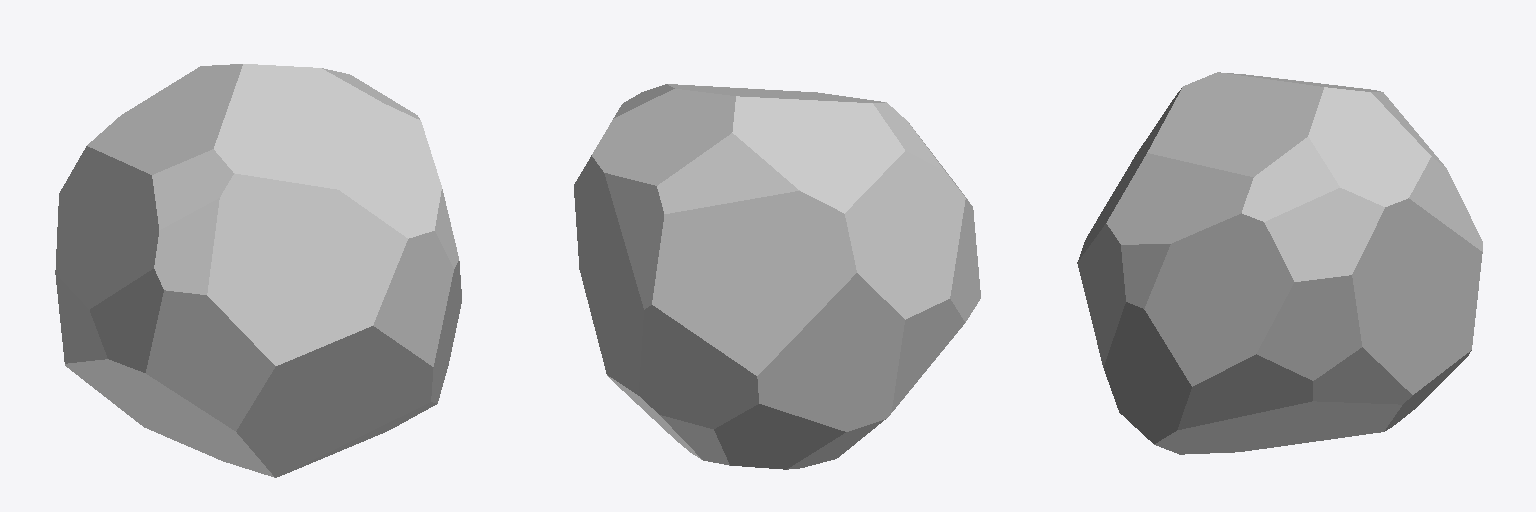
Rendered from smallStone5.obj.
3 views of the same model, side by side, from view 1: azimuth 30°, elevation 25°; view 2: azimuth 150°, elevation 25°; view 3: azimuth 270°, elevation 25° (orthographic).
Parts seen in each view (by area): view 1: Cube_001; view 2: Cube_001; view 3: Cube_001.
Boxes of the visible parts, x1,y1,x2,y2 form: Cube_001: [55, 64, 461, 477]; Cube_001: [574, 84, 980, 469]; Cube_001: [1077, 72, 1482, 454].
Size of the model in its own units: 57.95 by 55.11 by 58.32.